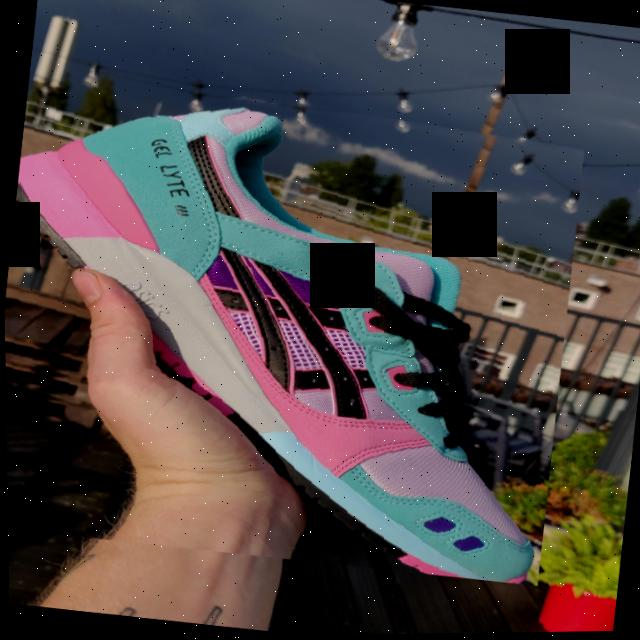shoe: (1, 53, 592, 593)
